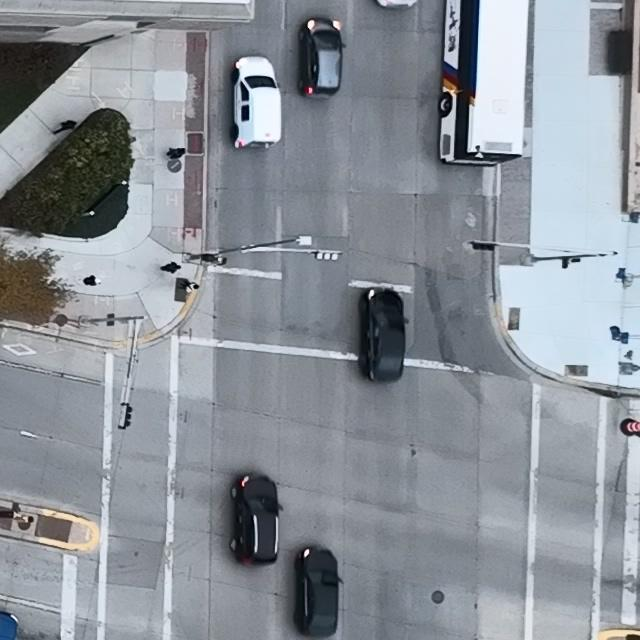car: (438, 0, 528, 168), (229, 474, 283, 565), (230, 56, 282, 149), (359, 287, 409, 383), (292, 547, 344, 637), (298, 17, 347, 99)
